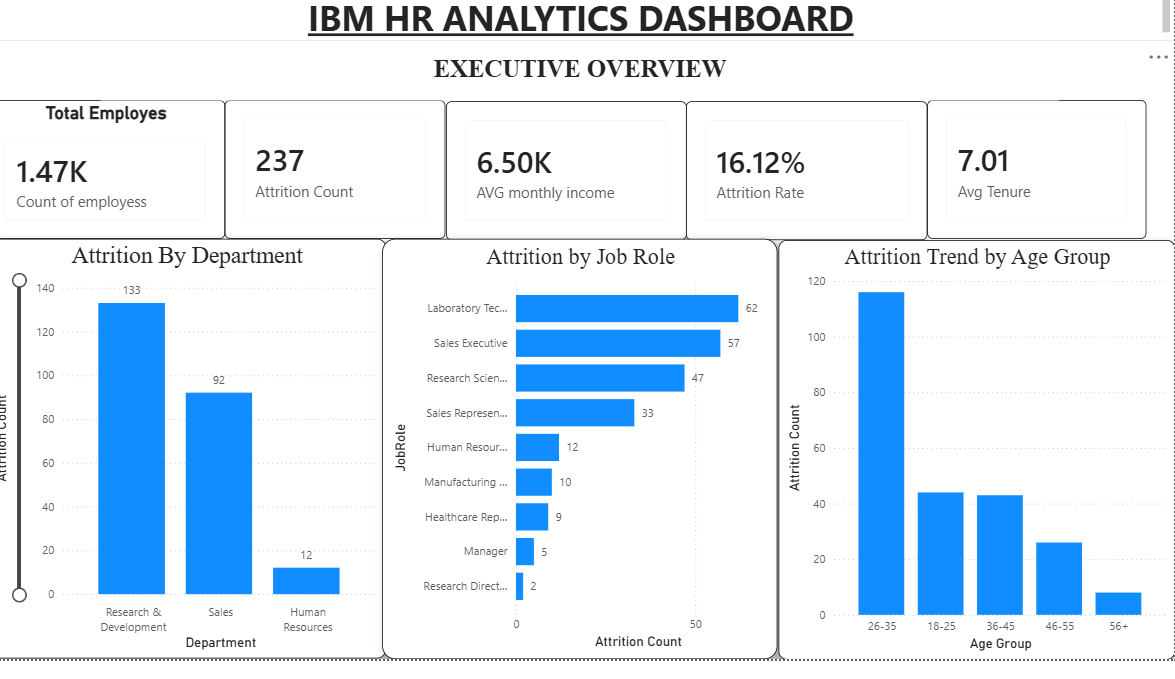

This screenshot's page, from the dashboard's own definition file:
{"tool":"powerbi","page":{"name":"Page 1","canvas":[1280,720],"ordinal":0},"visuals":[{"type":"textbox","box":[9.6,0,1270.7,54.9],"z":0},{"type":"cardVisual","title":"Total Employes","fields":{"Data":["CountNonNull(WA_Fn-UseC_-HR-Employee-Attrition.EmployeeCount)"]},"box":[0,118,257.5,149.6],"z":1000},{"type":"cardVisual","fields":{"Data":["Employee.Attrition Count"]},"box":[257.5,118,237.4,149.6],"z":2000},{"type":"cardVisual","fields":{"Data":["Employee.AVG monthly income"]},"box":[494.9,119.4,258.9,149.6],"z":3000},{"type":"cardVisual","fields":{"Data":["Employee.Attrition Rate"]},"box":[753.8,119.4,260.4,149.6],"z":4000},{"type":"cardVisual","fields":{"Data":["Employee.Avg Tenure"]},"box":[1014.2,118,235.9,149.6],"z":5000},{"type":"clusteredColumnChart","title":"Attrition By Department","fields":{"Category":["Employee.Department"],"Y":["Employee.Attrition Count"]},"box":[0,267.6,431.6,451.7],"z":6000},{"type":"clusteredBarChart","title":"Attrition  by Job Role","fields":{"Category":["Employee.JobRole"],"Y":["Employee.Attrition Count"]},"box":[427.2,267.6,425.8,453.1],"z":7000},{"type":"clusteredColumnChart","title":"Attrition Trend by Age Group","fields":{"Y":["Employee.Attrition Count"],"Category":["Employee.Age Group"]},"box":[853,269,427.2,451.7],"z":8000},{"type":"textbox","box":[123.7,64.7,1031.4,54.7],"z":9000}]}

Visuals, with their boxes in screenshot pixels (x1, y1, x2, y2), scaled from the page's 1280x720 canvas onto the 1175x679 screenshot:
textbox: <box>9,0,1174,52</box>
"Total Employes" cardVisual: <box>0,111,236,252</box>
cardVisual - Employee.Attrition Count: <box>236,111,454,252</box>
cardVisual - Employee.AVG monthly income: <box>454,113,692,254</box>
cardVisual - Employee.Attrition Rate: <box>692,113,931,254</box>
cardVisual - Employee.Avg Tenure: <box>931,111,1148,252</box>
"Attrition By Department" clusteredColumnChart: <box>0,252,396,678</box>
"Attrition  by Job Role" clusteredBarChart: <box>392,252,783,678</box>
"Attrition Trend by Age Group" clusteredColumnChart: <box>783,254,1174,678</box>
textbox: <box>114,61,1060,113</box>
